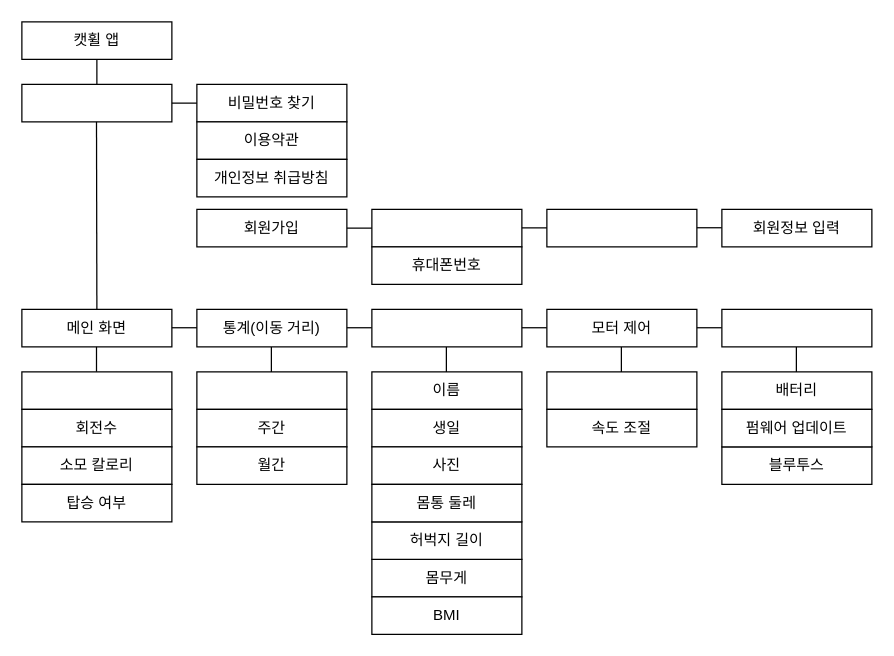
The diagram is 894 pixels wide and 656 high, and some of its shapes have lost their labels. The centre of each missing label's shape, as x and y in pixels:
구동/정지: the point at 621,390
기타: the point at 796,327
로그인: the point at 96,102
설정: the point at 446,327
이동 거리: the point at 96,390
이메일: the point at 446,227
인증: the point at 621,227
일간: the point at 271,390
